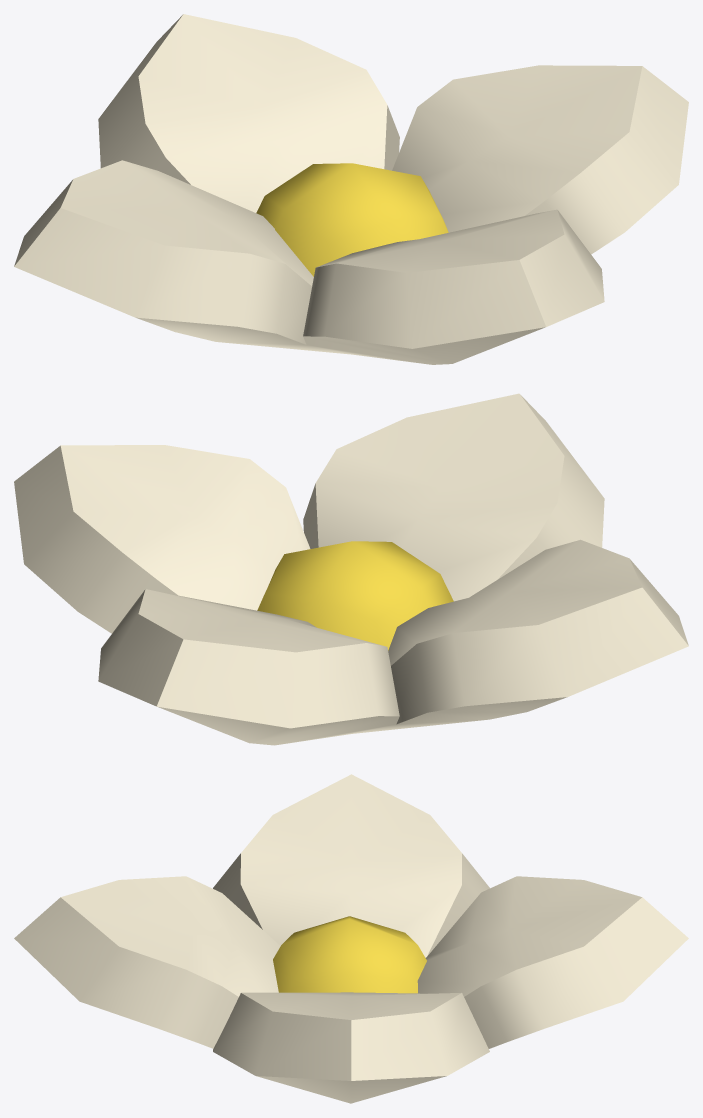
The model's file is itch_tiny_pretty_park_flower_a.glb.
3 renders of one model, top to bottom at view 1: azimuth 30°, elevation 25°; view 2: azimuth 150°, elevation 25°; view 3: azimuth 270°, elevation 25°, orthographic. The views are drawn at different scales.
Visible parts, largest first — view 1: flower_A; view 2: flower_A; view 3: flower_A.
Part boxes in pixels (x1,y1,x2,y2): flower_A: (14, 14, 688, 364); flower_A: (14, 393, 688, 745); flower_A: (14, 774, 688, 1103).
Bounding box in the file's own units: 0.42 × 0.1294 × 0.42.
